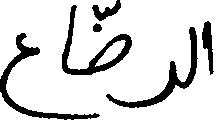X: (91, 0, 130, 119), (0, 28, 38, 119), (132, 56, 175, 112), (62, 0, 75, 119), (204, 16, 213, 79), (189, 22, 195, 89)
